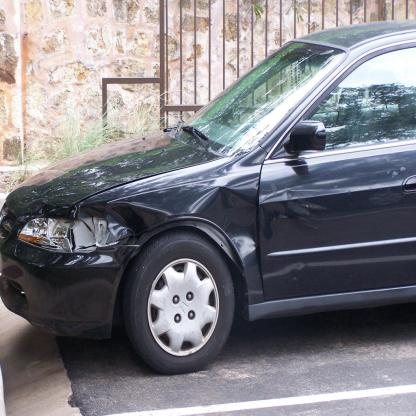door: (260, 140, 416, 300)
front_bumper: (0, 240, 141, 343)
headlamp: (19, 210, 130, 252)
hood: (5, 123, 227, 217)
